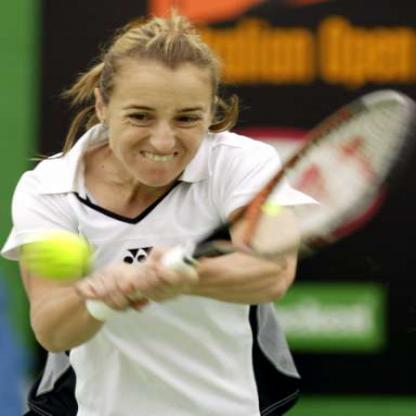face: (105, 38, 214, 188)
